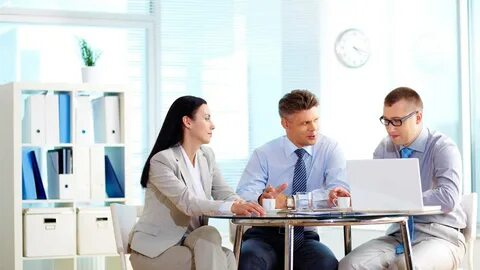awake: (339, 86, 467, 269), (236, 88, 345, 270), (126, 94, 235, 270)
